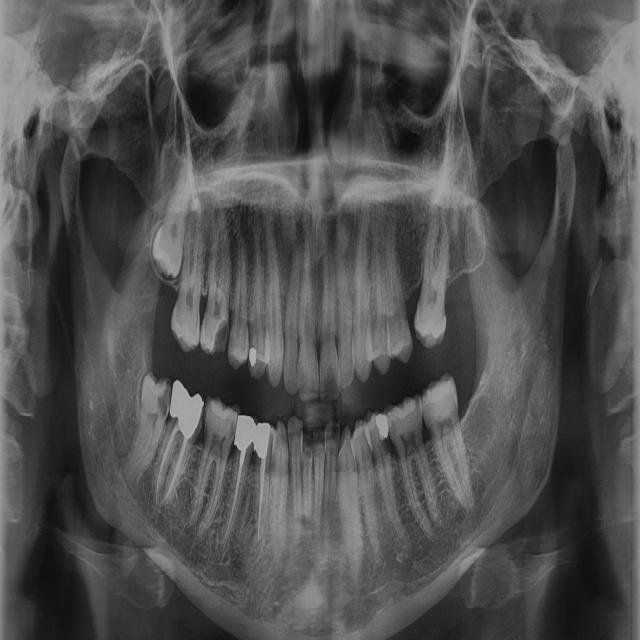Caries: (156, 378, 172, 418), (211, 320, 229, 353), (228, 414, 237, 443), (389, 417, 396, 442), (382, 434, 390, 453), (228, 331, 234, 350), (200, 404, 204, 428), (295, 357, 298, 382), (168, 413, 174, 424)
Filling: (170, 380, 204, 439), (234, 416, 257, 464), (254, 422, 270, 458), (375, 414, 389, 440), (249, 346, 257, 367)
Root Canal Treatment: (159, 435, 188, 503), (156, 419, 179, 504), (222, 465, 243, 543), (258, 457, 266, 543)
impacted tooth: (123, 372, 169, 487), (153, 153, 191, 280)
